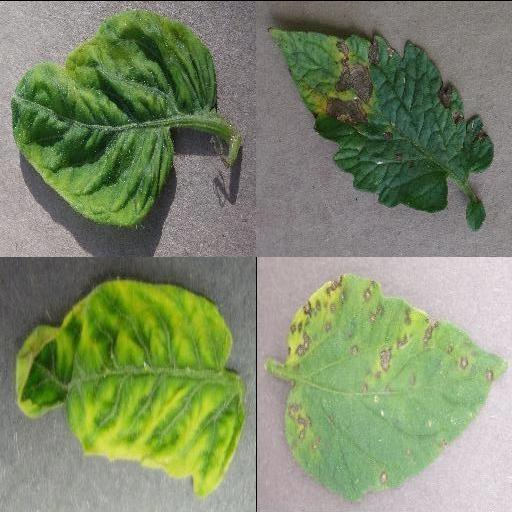Early Blight: (268, 26, 492, 212)
Septoria: (284, 275, 507, 501)
Yellow Leaf Curl Virus: (17, 278, 245, 497), (9, 8, 217, 226)
